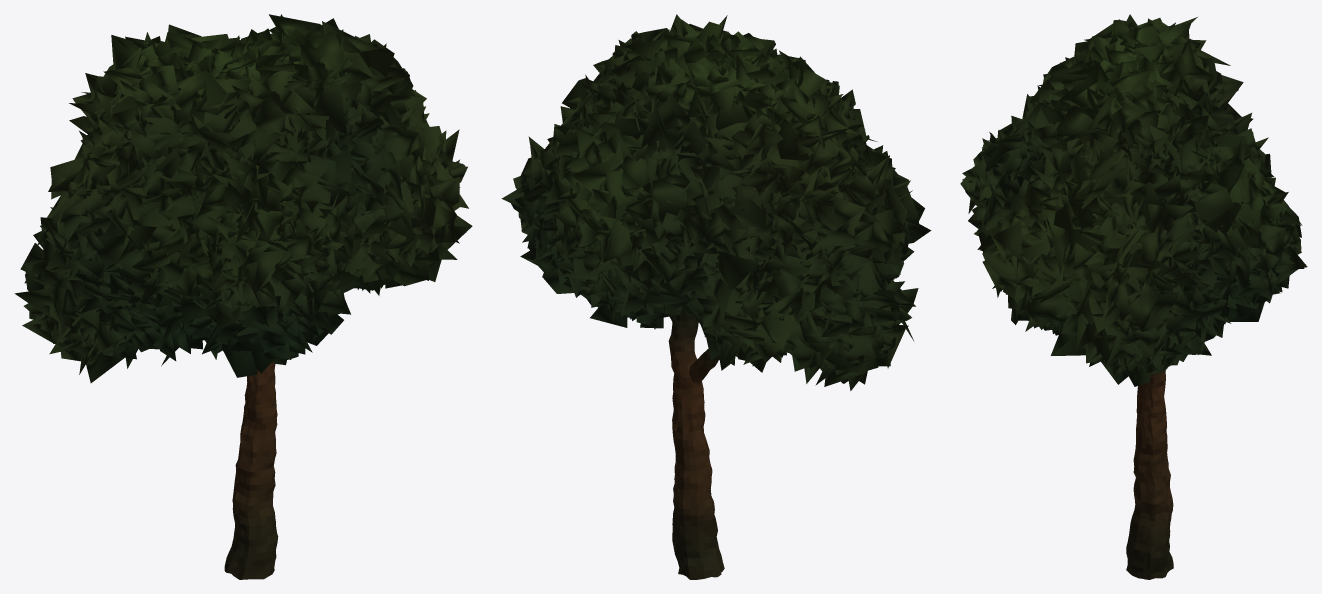
File: PC_Tree_01.FBX
The picture shows the model from 3 angles, left to right: view 1: azimuth 30°, elevation 25°; view 2: azimuth 150°, elevation 25°; view 3: azimuth 270°, elevation 25°; orthographic projection. The views are drawn at different scales.
Visible parts, largest first — view 1: tree_01; view 2: tree_01; view 3: tree_01.
Boxes of the visible parts, bbox=[...] form: tree_01: bbox=[14, 14, 472, 579]; tree_01: bbox=[501, 14, 931, 579]; tree_01: bbox=[960, 14, 1307, 579].
Bounding box in the file's own units: 5.43 × 6.7 × 4.08.
